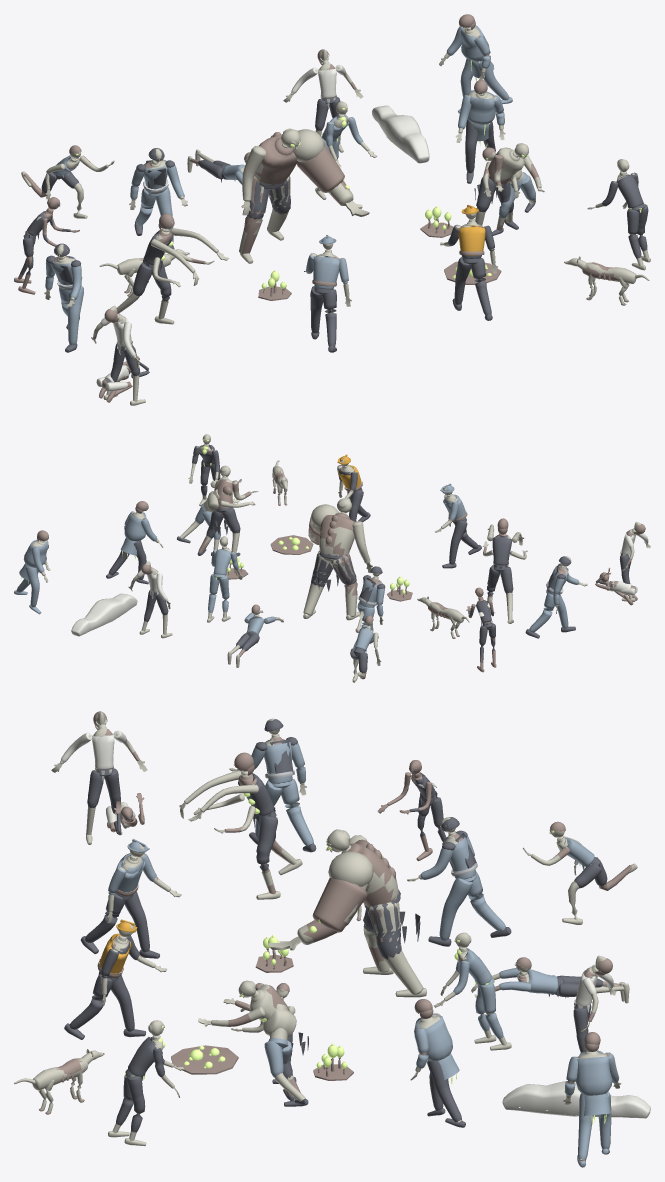
The model's file is undead-horde-and-infected-variants-boss-encounter-0e0376db__12019.glb.
The picture shows the model from 3 angles, top to bottom: view 1: azimuth 30°, elevation 25°; view 2: azimuth 150°, elevation 25°; view 3: azimuth 270°, elevation 25°; orthographic projection. The views are drawn at different scales.
Parts seen in each view (by area): view 1: 000-brute-boss-infected/1, 000-brute-boss-infected/0, 022-sheeted-body-dressing/0, 002-fused-pair-boss/1, 003-riot-armoured-infected/3, 013-spitter-infected/3, 001-multi-limbed-horror-boss/1, 010-riot-armoured-infected/3, 006-waterlogged-infected/3, 012-walker-site-worker/2, 011-walker-site-worker/2, 015-waterlogged-infected/3 (+19 smaller); view 2: 000-brute-boss-infected/0, 022-sheeted-body-dressing/0, 000-brute-boss-infected/1, 002-fused-pair-boss/1, 004-spitter-infected/3, 001-multi-limbed-horror-boss/3, 010-riot-armoured-infected/3, 000-brute-boss-infected/3, 006-waterlogged-infected/3, 002-fused-pair-boss/3, 013-spitter-infected/3, 011-walker-site-worker/2 (+17 smaller); view 3: 000-brute-boss-infected/0, 000-brute-boss-infected/1, 022-sheeted-body-dressing/0, 003-riot-armoured-infected/3, 002-fused-pair-boss/1, 010-riot-armoured-infected/3, 015-waterlogged-infected/3, 001-multi-limbed-horror-boss/1, 013-spitter-infected/3, 004-spitter-infected/3, 012-walker-site-worker/2, 011-walker-site-worker/2 (+23 smaller).
Part boxes in pixels (x1,y1,x2,y2): 000-brute-boss-infected/1: [241, 132, 349, 254]; 000-brute-boss-infected/0: [239, 128, 369, 263]; 022-sheeted-body-dressing/0: [372, 105, 429, 163]; 002-fused-pair-boss/1: [475, 143, 544, 229]; 003-riot-armoured-infected/3: [130, 159, 184, 241]; 013-spitter-infected/3: [602, 172, 648, 258]; 001-multi-limbed-horror-boss/1: [116, 222, 229, 324]; 010-riot-armoured-infected/3: [45, 256, 83, 345]; 006-waterlogged-infected/3: [458, 90, 504, 141]; 012-walker-site-worker/2: [452, 257, 492, 320]; 011-walker-site-worker/2: [310, 286, 336, 352]; 015-waterlogged-infected/3: [446, 25, 494, 78]; 000-brute-boss-infected/0: [303, 498, 372, 620]; 022-sheeted-body-dressing/0: [71, 593, 137, 636]; 000-brute-boss-infected/1: [305, 512, 357, 614]; 002-fused-pair-boss/1: [180, 465, 258, 553]; 004-spitter-infected/3: [208, 549, 238, 612]; 001-multi-limbed-horror-boss/3: [486, 535, 513, 596]; 010-riot-armoured-infected/3: [529, 566, 578, 632]; 000-brute-boss-infected/3: [311, 551, 356, 591]; 006-waterlogged-infected/3: [120, 511, 157, 555]; 002-fused-pair-boss/3: [177, 507, 240, 556]; 013-spitter-infected/3: [192, 444, 220, 495]; 011-walker-site-worker/2: [442, 518, 481, 568]; 000-brute-boss-infected/0: [268, 829, 426, 997]; 000-brute-boss-infected/1: [303, 839, 396, 970]; 022-sheeted-body-dressing/0: [502, 1081, 650, 1118]; 003-riot-armoured-infected/3: [420, 836, 505, 940]; 002-fused-pair-boss/1: [198, 980, 305, 1101]; 010-riot-armoured-infected/3: [238, 739, 313, 846]; 015-waterlogged-infected/3: [564, 1050, 618, 1115]; 001-multi-limbed-horror-boss/1: [179, 761, 302, 899]; 013-spitter-infected/3: [116, 1036, 164, 1132]; 004-spitter-infected/3: [453, 947, 503, 1038]; 012-walker-site-worker/2: [64, 971, 145, 1039]; 011-walker-site-worker/2: [80, 891, 159, 958].
Bounding box in the file's own units: 10.67 × 2.25 × 8.12.
